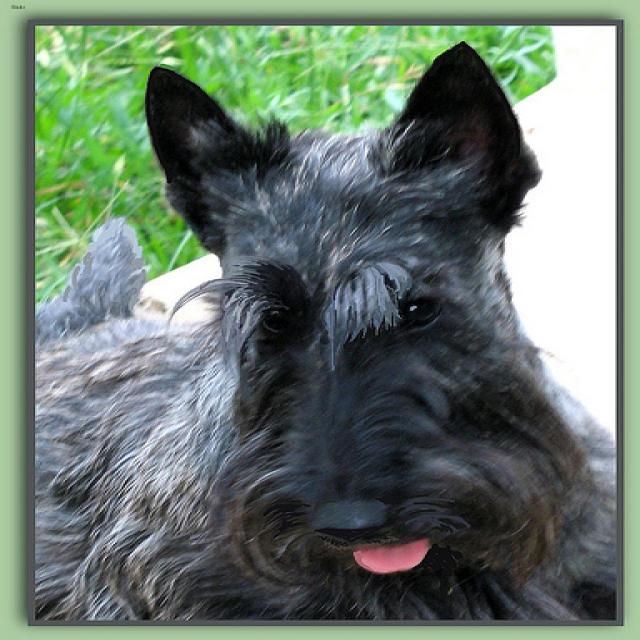dog-scottish_terrier: (23, 35, 623, 634)
